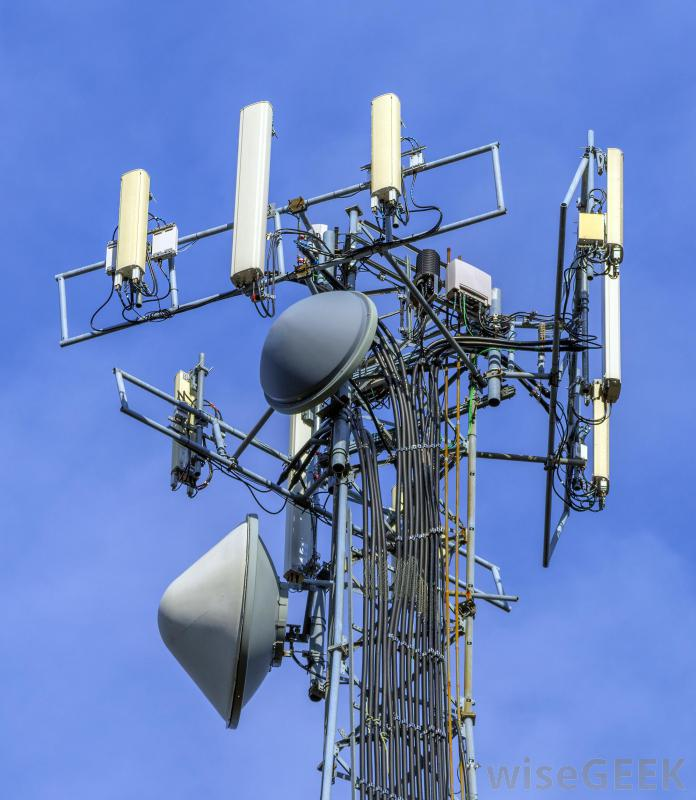a: (233, 98, 261, 277), (117, 174, 145, 277), (370, 95, 399, 190), (605, 277, 623, 399), (609, 147, 627, 247)
